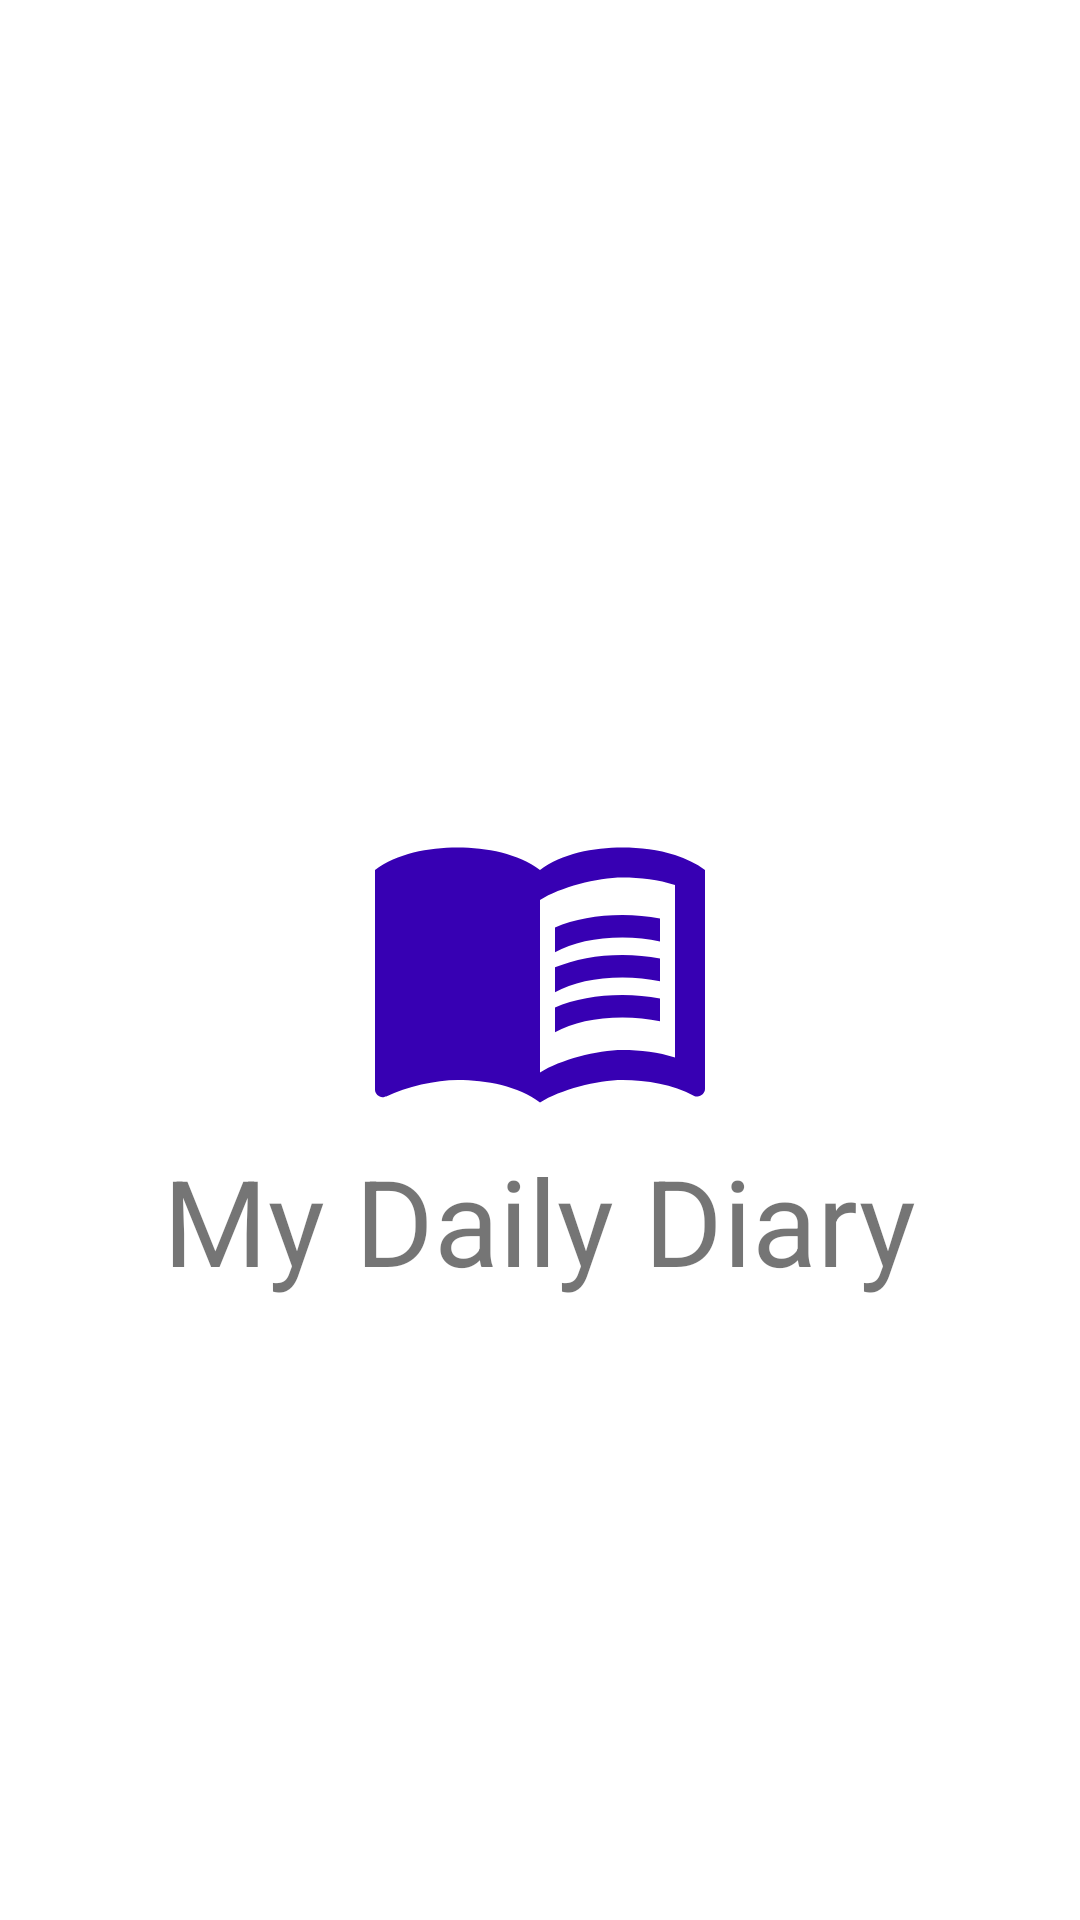

Where icons sit on this 1080×1920 app screen, as (x1, y1, x2, y2):
book: (375, 847, 705, 1103)
